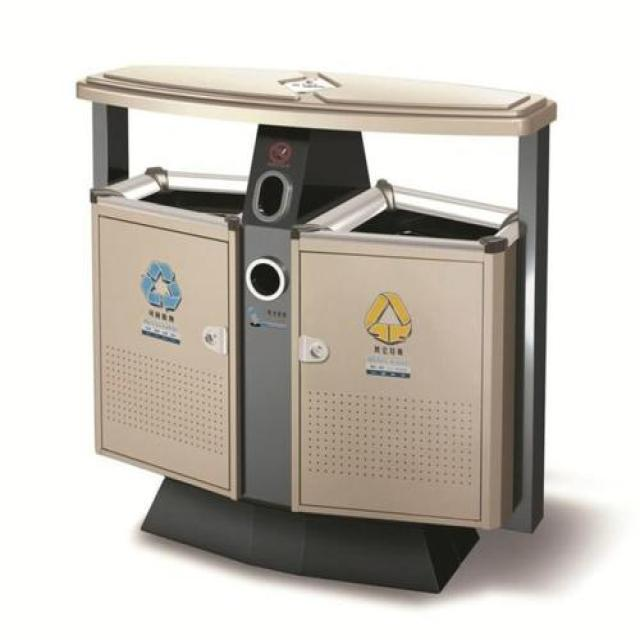garbage_bin: (73, 61, 557, 594)
